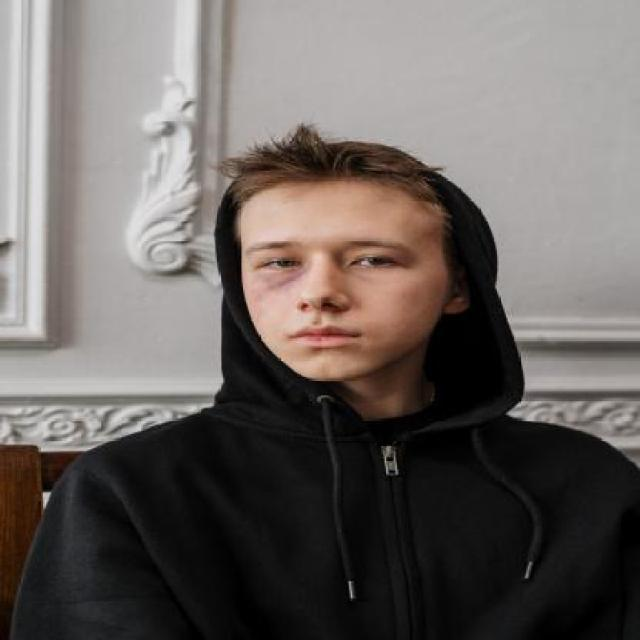closed-mouth: (287, 324, 362, 348)
